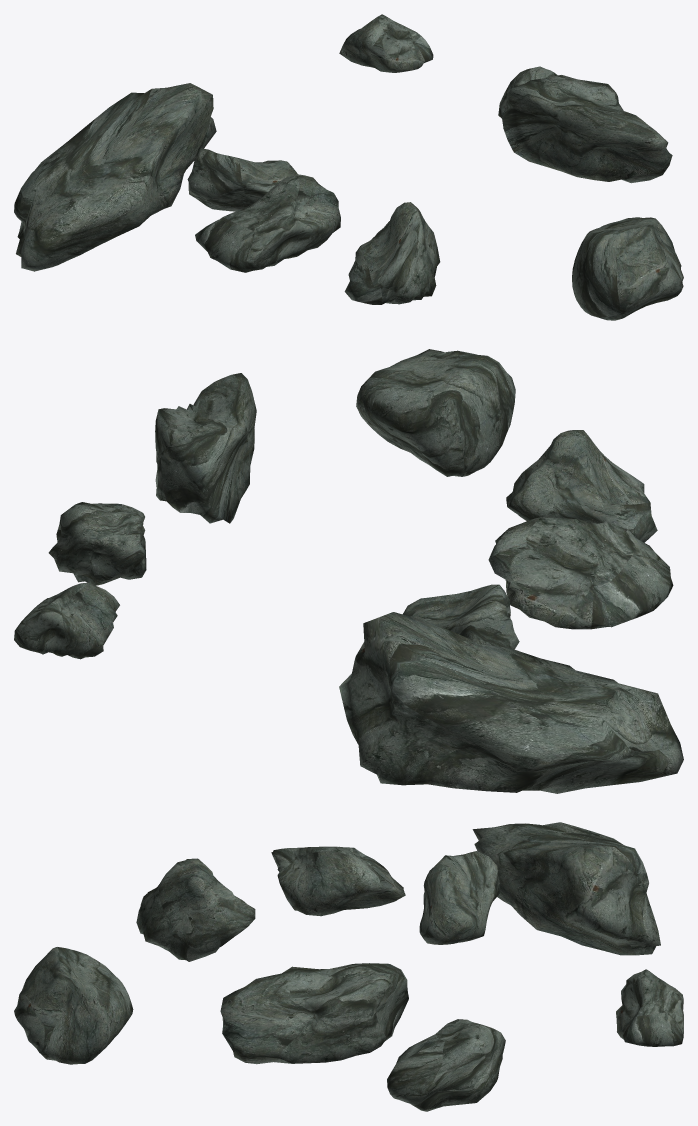
File: stones3.fbx
3 views of the same model, one above another, from view 1: azimuth 30°, elevation 25°; view 2: azimuth 150°, elevation 25°; view 3: azimuth 270°, elevation 25° (orthographic). The views are drawn at different scales.
Parts seen in each view (by area): view 1: Cube.004, Cube.005, Cube.003, Cube, Cube.001, Cube.002, Cube.006, Icosphere; view 2: Cube.004, Cube, Cube.003, Cube.005, Cube.001, Icosphere, Cube.006, Cube.002; view 3: Cube.004, Cube.005, Cube.003, Cube.001, Icosphere, Cube, Cube.002, Cube.006.
Boxes of the visible parts, x1,y1,x2,y2 form: Cube.004: (14, 83, 216, 271); Cube.005: (502, 75, 672, 183); Cube.003: (572, 217, 683, 320); Cube: (195, 174, 340, 272); Cube.001: (344, 202, 440, 304); Cube.002: (187, 148, 297, 211); Cube.006: (339, 14, 433, 72); Icosphere: (498, 66, 557, 118); Cube.004: (339, 612, 683, 793); Cube: (488, 517, 673, 629); Cube.003: (356, 349, 515, 476); Cube.005: (155, 373, 256, 523); Cube.001: (506, 430, 657, 542); Icosphere: (48, 502, 146, 585); Cube.006: (14, 583, 119, 659); Cube.002: (403, 584, 519, 649); Cube.004: (472, 822, 660, 955); Cube.005: (220, 963, 408, 1064); Cube.003: (14, 947, 133, 1064); Cube.001: (136, 858, 255, 961); Icosphere: (387, 1019, 505, 1111); Cube: (271, 846, 405, 916); Cube.002: (419, 851, 499, 944); Cube.006: (616, 969, 683, 1046).
Size of the model in its own units: 1281 by 307 by 1311.
